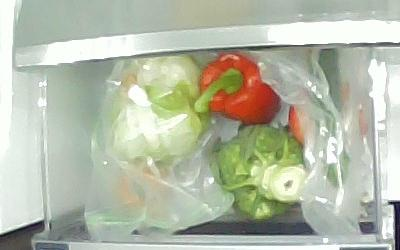apple_vinyl: (290, 83, 367, 146)
broccoli: (215, 123, 305, 220)
cucumber_vinyl: (307, 48, 351, 188)
lettuce_vinyl: (101, 53, 208, 166)
paprika: (195, 53, 282, 126)
peach_vinyl: (117, 165, 172, 212)
